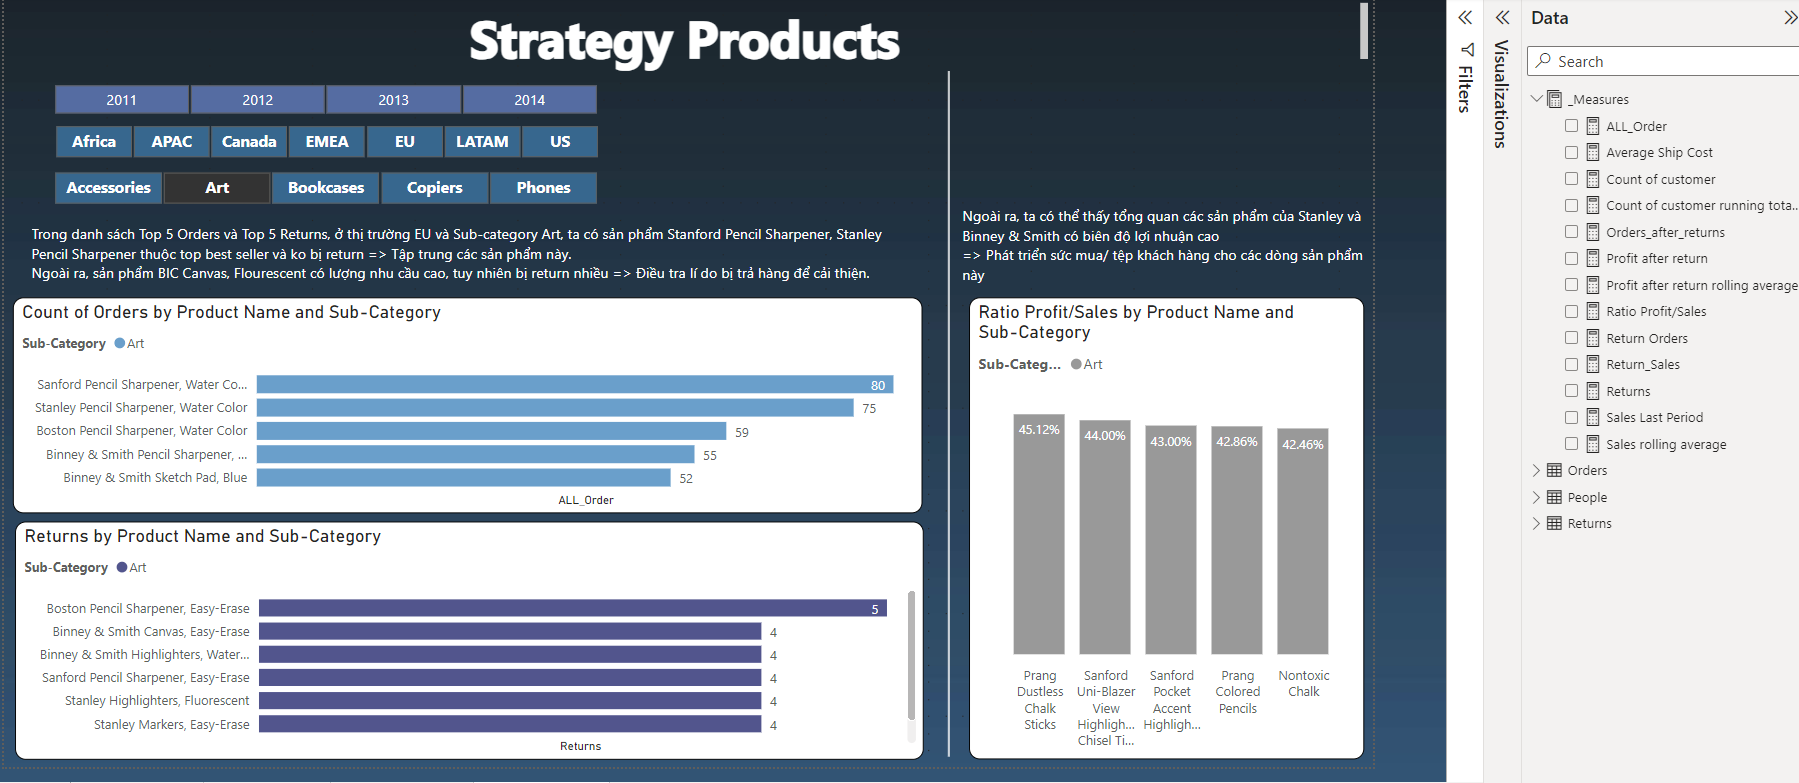

Layout of this report page (visuals, bound fields, positions):
{"tool":"powerbi","page":{"name":"Return Product","canvas":[1280,720],"ordinal":3},"visuals":[{"type":"textbox","box":[0,0,1280,75.4],"z":0},{"type":"slicer","fields":{"Values":["Orders.Order Date.Variation.Date Hierarchy.Year"]},"box":[21.7,75.4,556.4,38.2],"z":1000},{"type":"slicer","fields":{"Values":["Orders.Market"]},"box":[22.7,113.5,556.4,43.4],"z":2000},{"type":"clusteredBarChart","title":"Count of Orders by Product Name and Sub-Category","fields":{"Category":["Orders.Product Name"],"Series":["Orders.Sub-Category"],"Y":["_Measures.ALL_Order"]},"box":[8.6,280.6,850.5,201.8],"z":3000},{"type":"clusteredBarChart","fields":{"Category":["Orders.Product Name"],"Y":["_Measures.Returns"],"Series":["Orders.Sub-Category"]},"box":[9.8,489.8,849.2,222.8],"z":4000},{"type":"slicer","fields":{"Values":["Orders.Sub-Category"]},"box":[21.7,156.9,556.4,42.3],"z":5000},{"type":"textbox","box":[20.6,206.5,838.2,81.5],"z":6000},{"type":"columnChart","fields":{"Y":["_Measures.Ratio Profit/Sales"],"Category":["Orders.Product Name"],"Series":["Orders.Sub-Category"]},"box":[902.2,280.6,369.2,432],"z":7000},{"type":"textbox","box":[890.8,189.9,389.2,90.8],"z":8000},{"type":"shape","box":[876.8,69.3,13.9,641.1],"z":9000}]}

Visuals, with their boxes on the page's 1280x720 design canvas (x1, y1, x2, y2). These are canvas units, not pixel positions in the 1799x783 screenshot, which may show the page scaled, cropped or inside an application window:
textbox: box(0, 0, 1280, 75)
slicer - Orders.Order Date.Variation.Date Hierarchy.Year: box(22, 75, 578, 114)
slicer - Orders.Market: box(23, 114, 579, 157)
"Count of Orders by Product Name and Sub-Category" clusteredBarChart: box(9, 281, 859, 482)
clusteredBarChart - Orders.Product Name x _Measures.Returns: box(10, 490, 859, 713)
slicer - Orders.Sub-Category: box(22, 157, 578, 199)
textbox: box(21, 206, 859, 288)
columnChart - _Measures.Ratio Profit/Sales x Orders.Product Name: box(902, 281, 1271, 713)
textbox: box(891, 190, 1280, 281)
shape: box(877, 69, 891, 710)
